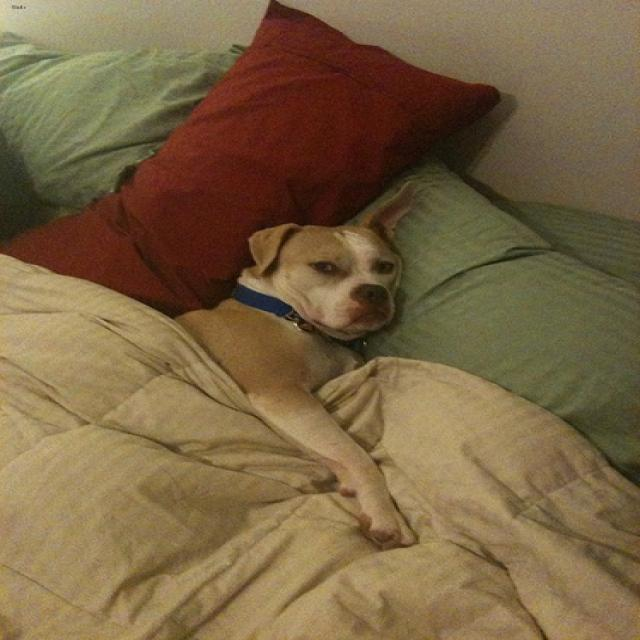dog-american_bulldog: (167, 173, 430, 561)
